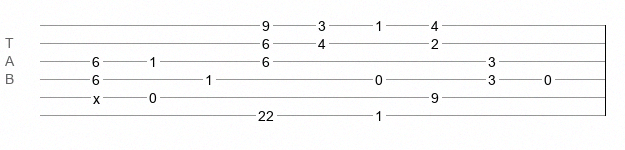0: (149, 90, 157, 100), (375, 72, 383, 82), (544, 72, 552, 82)
1: (149, 54, 157, 64), (205, 72, 213, 82), (375, 18, 383, 28), (375, 108, 383, 118)
2: (431, 36, 439, 46)
22: (258, 108, 274, 118)
3: (318, 18, 326, 28), (488, 54, 496, 64), (488, 72, 496, 82)
4: (318, 36, 326, 46), (431, 18, 439, 28)
6: (92, 72, 100, 82), (92, 54, 100, 64), (262, 36, 270, 46), (262, 54, 270, 64)
9: (262, 18, 270, 28), (431, 90, 439, 100)
x: (93, 91, 100, 99)
